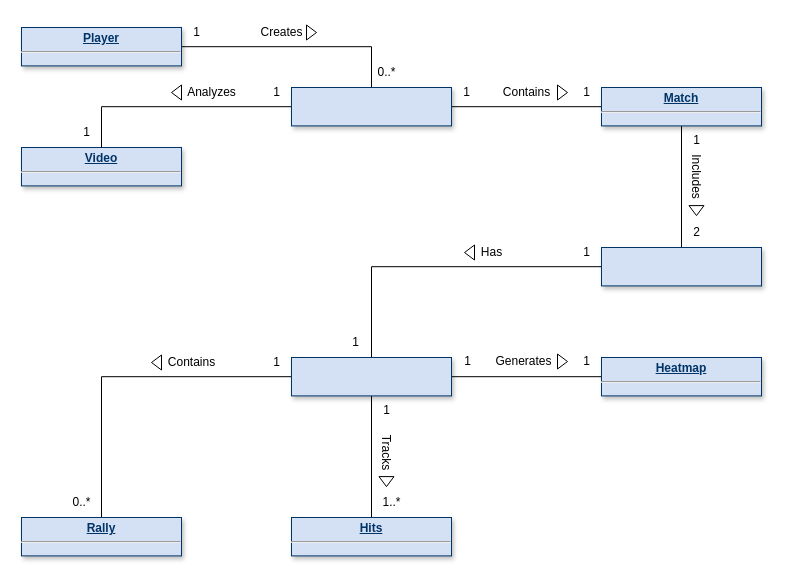
Image size: 785x580. Some labels were removed from this diagram. The shapes that lost their labels are listed below. From the top down, each one's centre as x and y in pixels, then its label:
the point at 372,107: Analysis
the point at 682,267: MatchPlayer
the point at 372,377: SummaryMetrics
